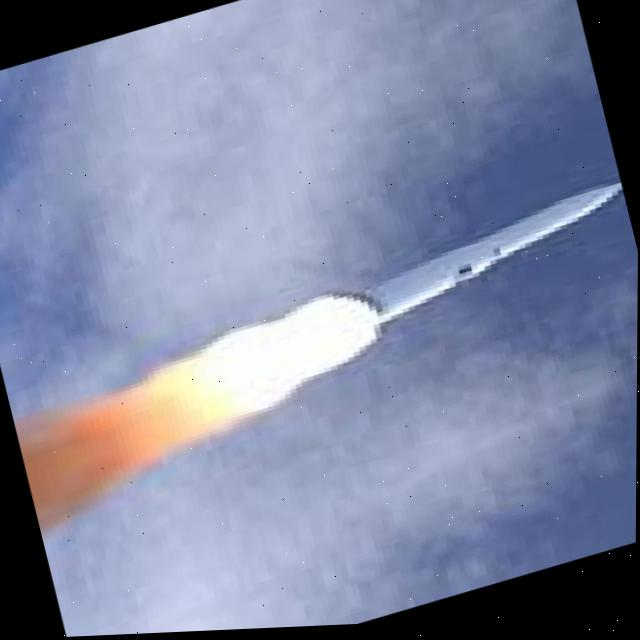missile: (345, 183, 635, 343)
